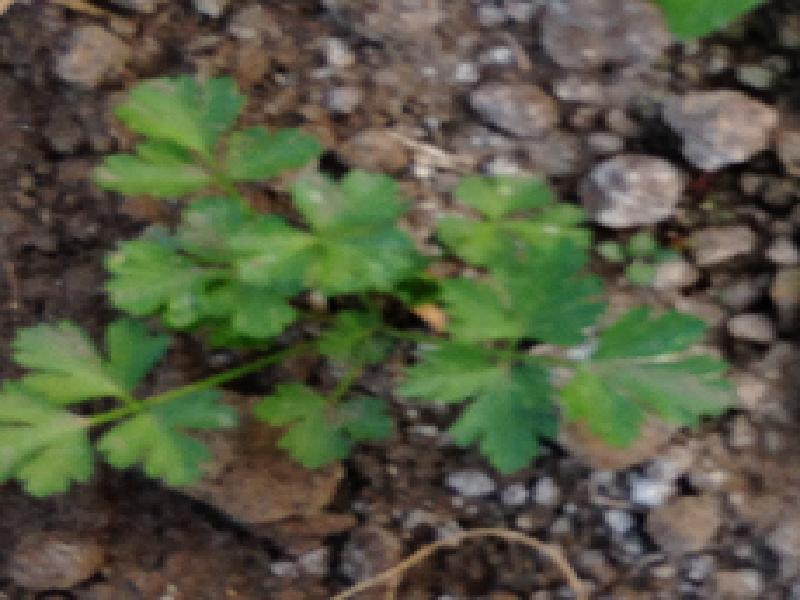radish: (96, 53, 672, 600)
